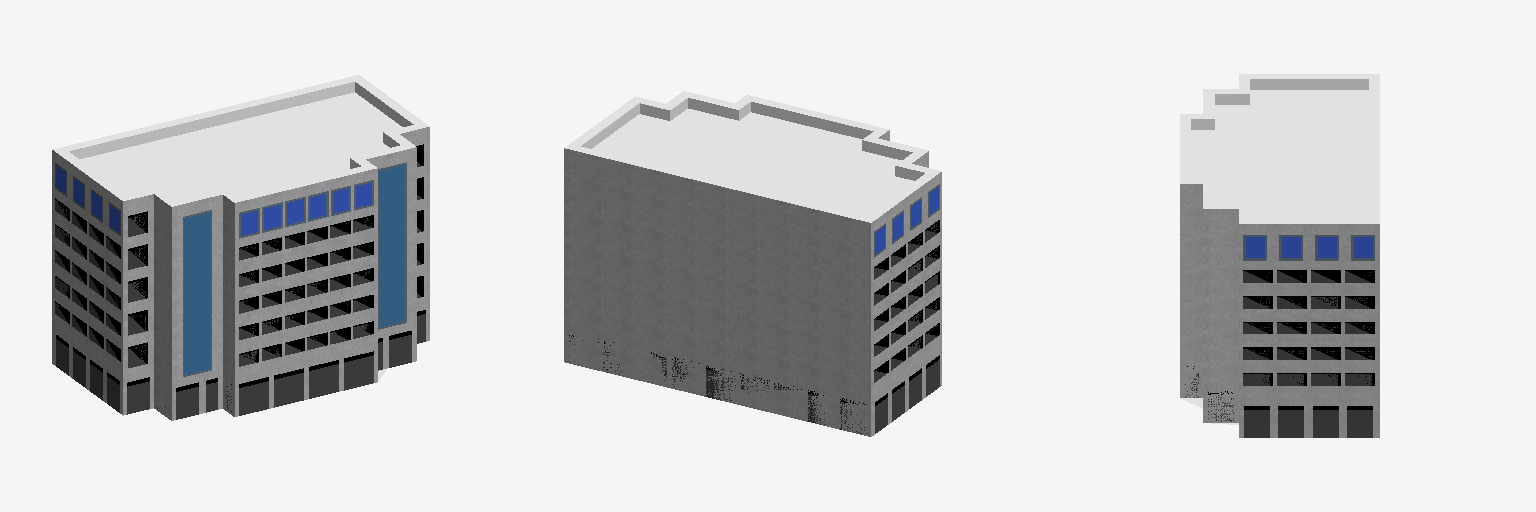
The picture shows the model from 3 angles: view 1: azimuth 30°, elevation 25°; view 2: azimuth 150°, elevation 25°; view 3: azimuth 270°, elevation 25°; orthographic projection.
Parts seen in each view (by area): view 1: Mesh1 Model; view 2: Mesh1 Model; view 3: Mesh1 Model.
Boxes of the visible parts, box(x1,y1,x2,y2) form: Mesh1 Model: box(52, 75, 429, 420); Mesh1 Model: box(564, 91, 941, 436); Mesh1 Model: box(1180, 74, 1379, 437).
Bounding box in the file's own units: 15 × 10 × 8.5.
7 materials, 1 textured.